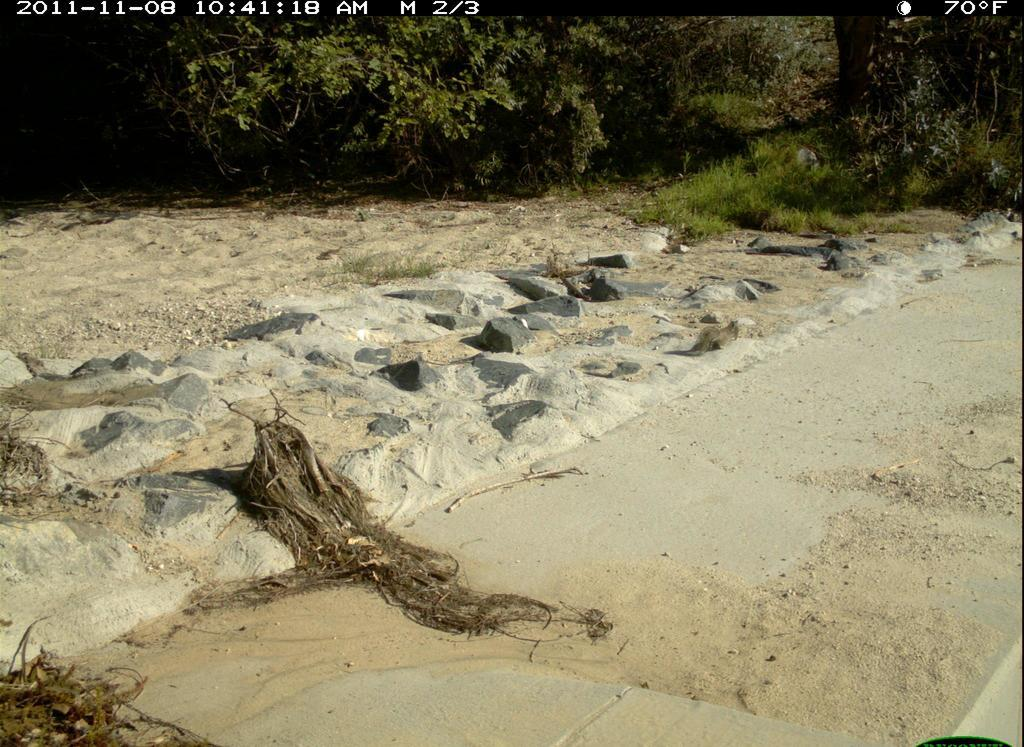squirrel: (685, 317, 741, 360)
